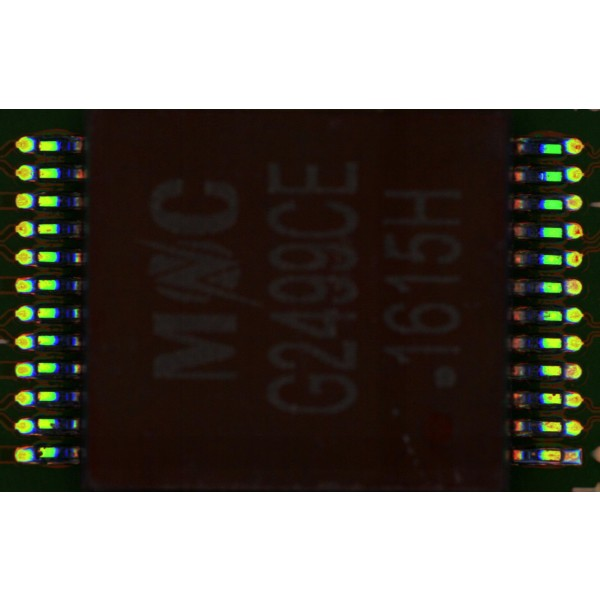Bad_podu: (554, 451, 572, 461), (553, 367, 574, 375)
